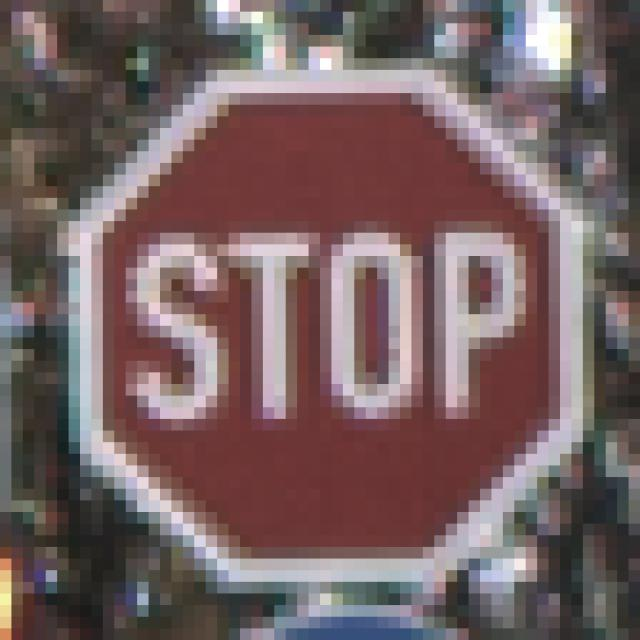STOP: (58, 59, 584, 583)
